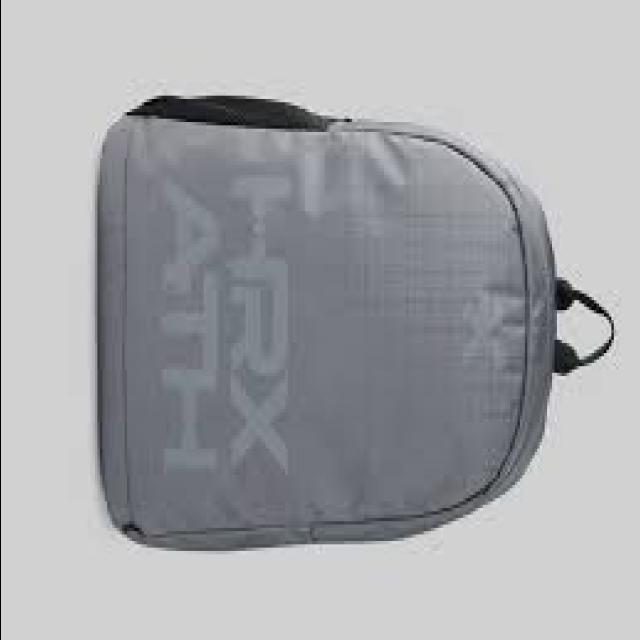backpack: (98, 94, 617, 552)
